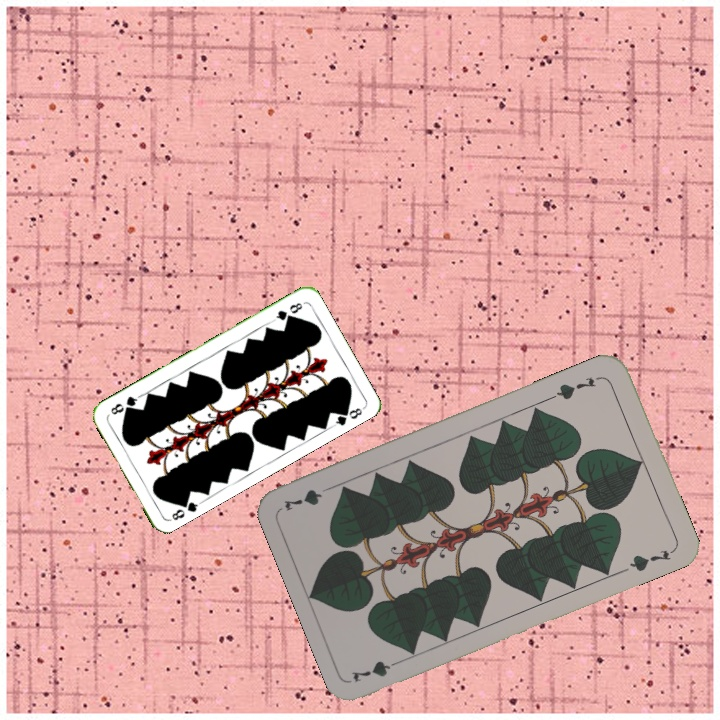G7: (347, 654, 407, 685), (548, 372, 605, 403)
G8: (166, 495, 203, 523), (269, 298, 305, 324)
